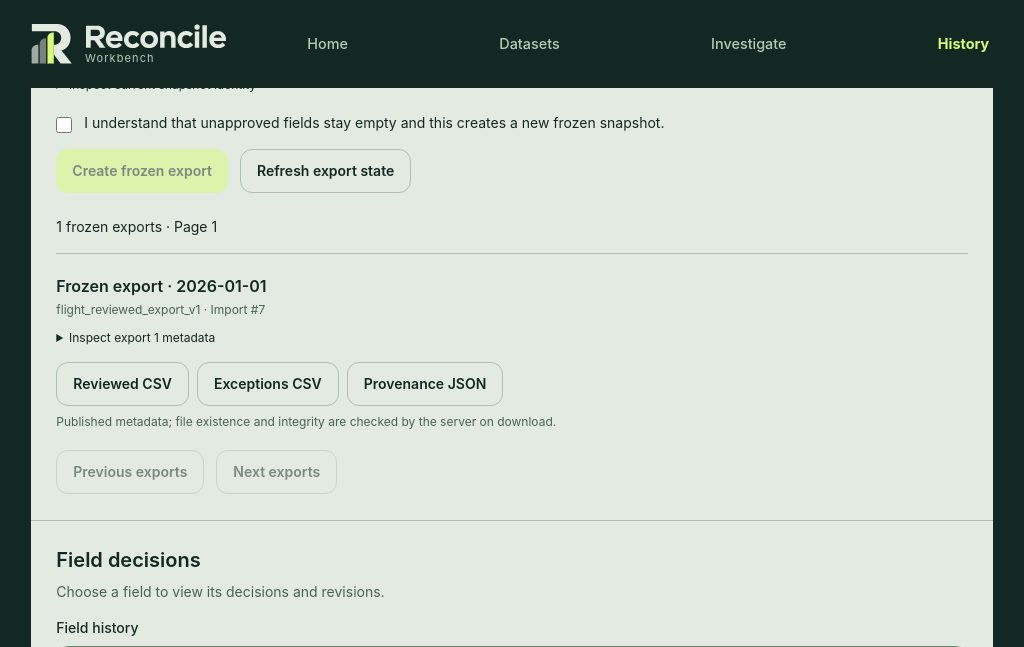
Test case: downloads Reviewed CSV using backend URLs without POST or regeneration
This screenshot has width=1024, height=647.
(page scrolled)
Expected: the text "Current snapshot: 4 fields · 1 ungroupable observations" is shown, 56,50 -> 423,67
Click the button "Reviewed CSV" at (123, 384), box 56,362 -> 189,406
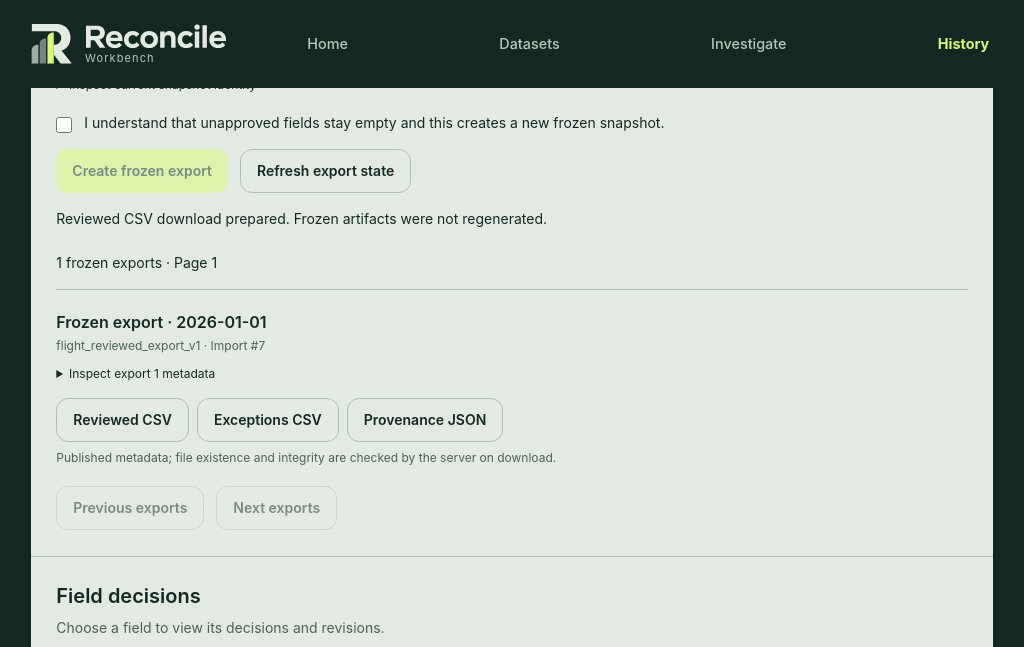
Now the text "Reviewed CSV download prepared. Frozen artifacts were not regenerated." is shown, box 56,210 -> 547,227
